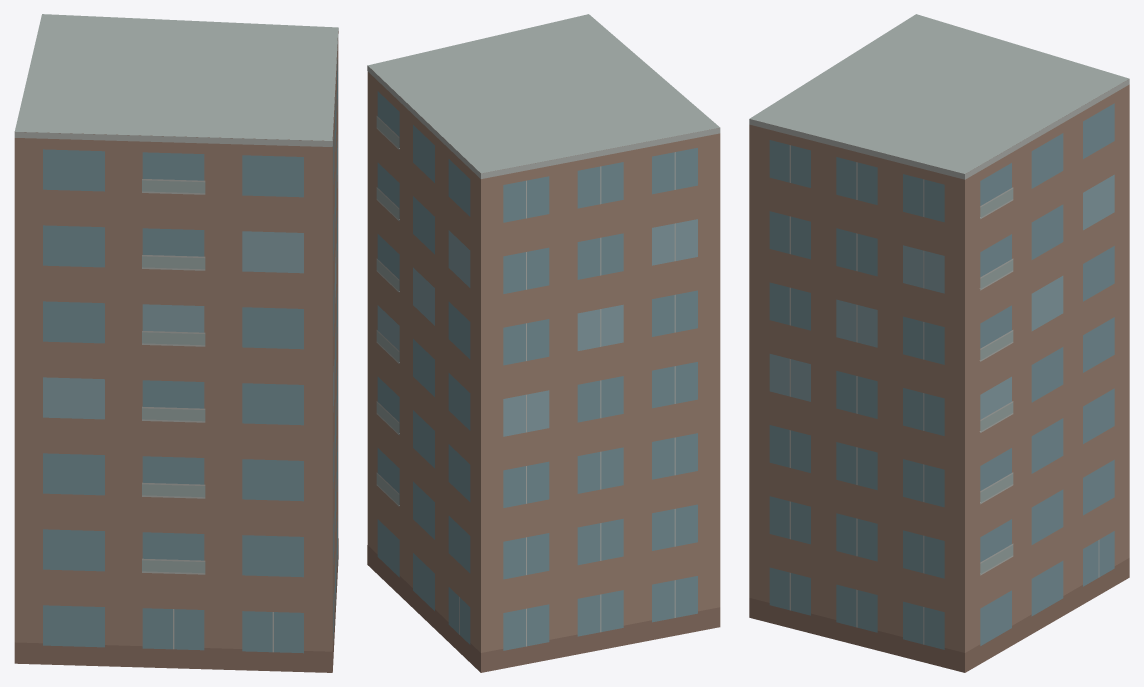
Rendered from survey-upis-32633996.glb.
The picture shows the model from 3 angles, left to right: view 1: azimuth 30°, elevation 25°; view 2: azimuth 150°, elevation 25°; view 3: azimuth 270°, elevation 25°; orthographic projection. The views are drawn at different scales.
Visible parts, largest first — view 1: survey-upis-32633996.tmp; view 2: survey-upis-32633996.tmp; view 3: survey-upis-32633996.tmp.
Boxes of the visible parts, box(x1,y1,x2,y2) form: survey-upis-32633996.tmp: box(14, 14, 338, 672); survey-upis-32633996.tmp: box(367, 14, 720, 672); survey-upis-32633996.tmp: box(749, 14, 1129, 672).
Size of the model in its own units: 14.7 by 21.35 by 14.76.
